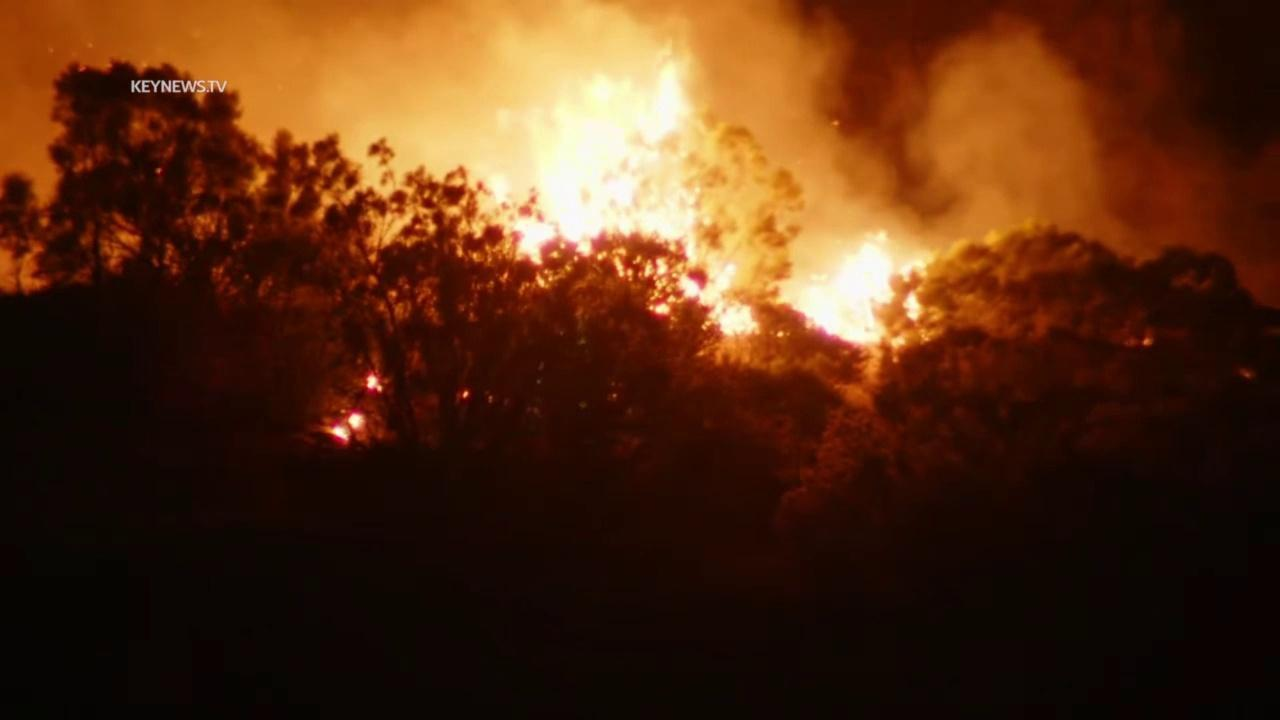fire: (480, 57, 765, 339), (779, 222, 928, 348), (325, 407, 368, 447), (361, 374, 388, 395), (460, 387, 472, 400)
smoke: (0, 0, 1280, 310)
